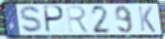2: (90, 5, 111, 35)
9: (114, 5, 134, 35)
K: (136, 5, 157, 34)
P: (44, 5, 66, 35)
R: (65, 5, 91, 35)
S: (18, 5, 45, 35)
